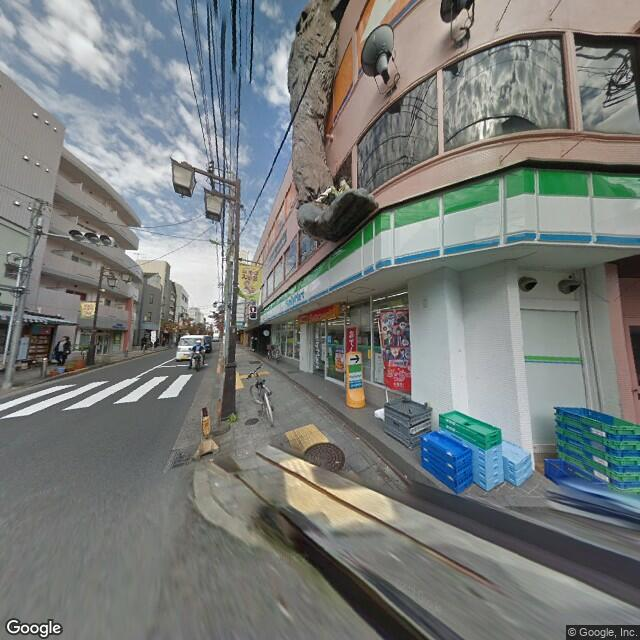family_mart: (259, 175, 637, 326)
